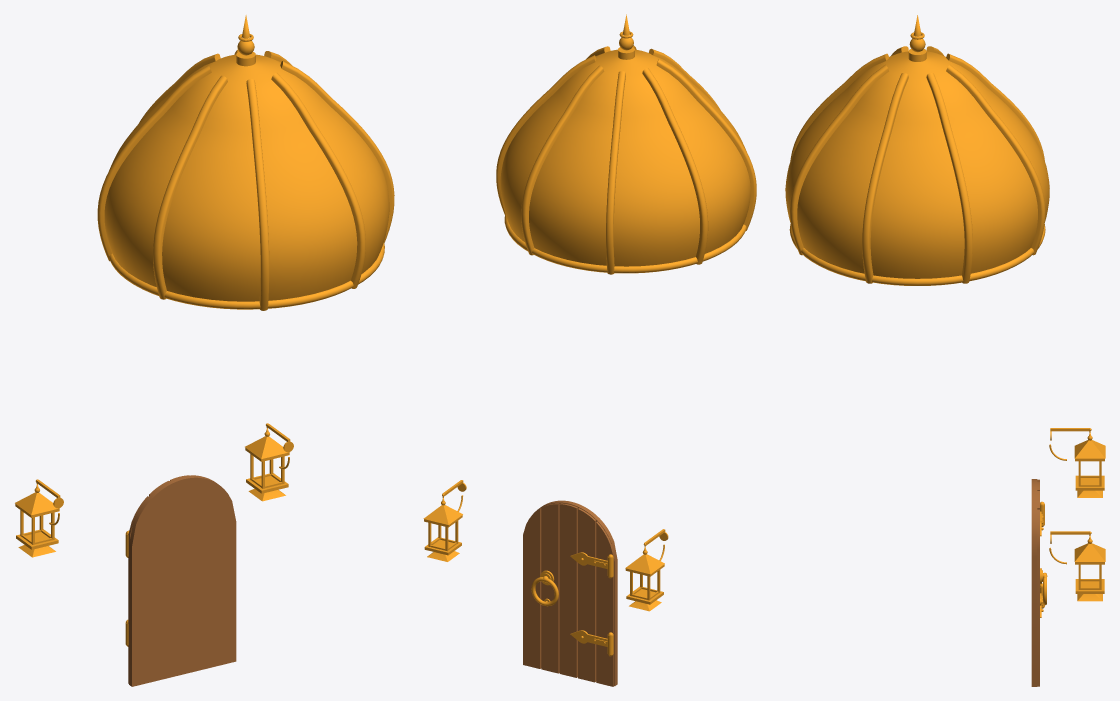
Rendered from HaloDomeHouse_10_ornaments.glb.
3 views of the same model, side by side, from view 1: azimuth 30°, elevation 25°; view 2: azimuth 150°, elevation 25°; view 3: azimuth 270°, elevation 25° (orthographic). The views are drawn at different scales.
Parts seen in each view (by area): view 1: Orn_HaloDomeHouse_10_Dome, Orn_HaloDomeHouse_10_Leaf, Orn_HaloDomeHouse_10_Dome_Ribs, Orn_HaloDomeHouse_10_Lantern0, Orn_HaloDomeHouse_10_Lantern1; view 2: Orn_HaloDomeHouse_10_Dome, Orn_HaloDomeHouse_10_Leaf, Orn_HaloDomeHouse_10_Dome_Ribs, Orn_HaloDomeHouse_10_Lantern0, Orn_HaloDomeHouse_10_Lantern1; view 3: Orn_HaloDomeHouse_10_Dome, Orn_HaloDomeHouse_10_Dome_Ribs, Orn_HaloDomeHouse_10_Leaf, Orn_HaloDomeHouse_10_Lantern1, Orn_HaloDomeHouse_10_Lantern0.
Part boxes in pixels (<box>): Orn_HaloDomeHouse_10_Dome: <box>104,15,389,309</box>; Orn_HaloDomeHouse_10_Leaf: <box>128,475,236,686</box>; Orn_HaloDomeHouse_10_Dome_Ribs: <box>97,49,394,310</box>; Orn_HaloDomeHouse_10_Lantern0: <box>245,423,293,501</box>; Orn_HaloDomeHouse_10_Lantern1: <box>15,479,63,557</box>; Orn_HaloDomeHouse_10_Dome: <box>500,14,750,273</box>; Orn_HaloDomeHouse_10_Leaf: <box>523,500,617,686</box>; Orn_HaloDomeHouse_10_Dome_Ribs: <box>496,45,756,274</box>; Orn_HaloDomeHouse_10_Lantern0: <box>423,480,466,561</box>; Orn_HaloDomeHouse_10_Lantern1: <box>625,529,668,611</box>; Orn_HaloDomeHouse_10_Dome: <box>785,15,1049,285</box>; Orn_HaloDomeHouse_10_Dome_Ribs: <box>790,46,1045,283</box>; Orn_HaloDomeHouse_10_Leaf: <box>1031,479,1039,686</box>; Orn_HaloDomeHouse_10_Lantern1: <box>1049,428,1105,497</box>; Orn_HaloDomeHouse_10_Lantern0: <box>1049,531,1105,601</box>.
Bounding box in the file's own units: 10.7 × 27.85 × 12.44.
